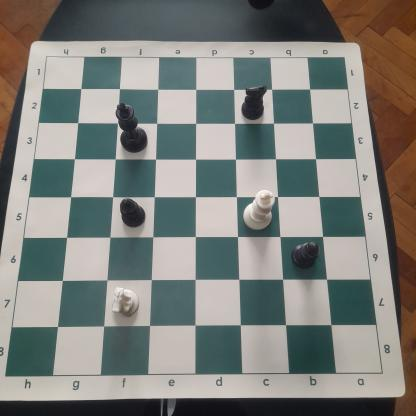black-bishop: (115, 195, 150, 230), (289, 237, 324, 270)
black-king: (110, 100, 151, 154)
black-knight: (238, 80, 272, 122)
white-king: (240, 187, 278, 233)
white-knight: (107, 283, 143, 321)
